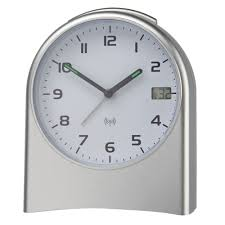alarm_clock: (24, 7, 197, 211), (24, 9, 197, 211)
